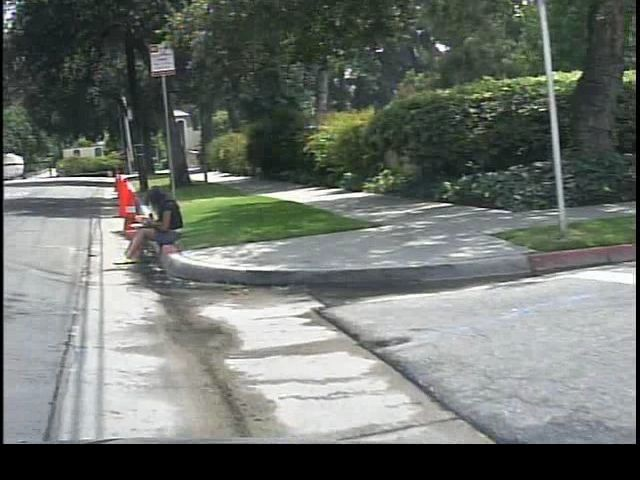person: (109, 182, 188, 269)
